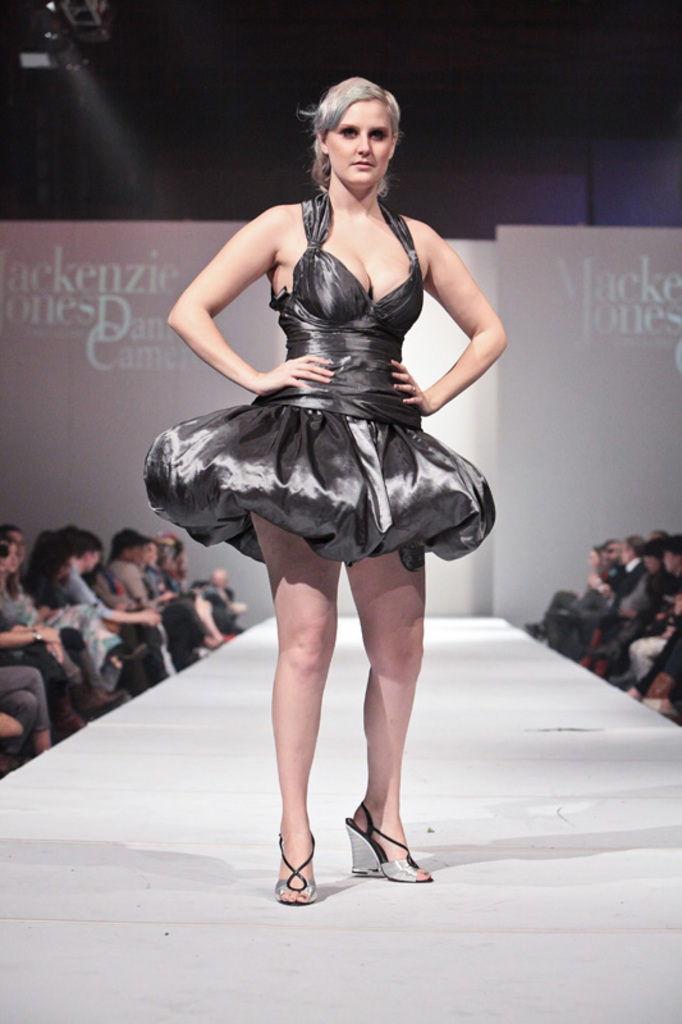Person: (0, 76, 682, 906)
